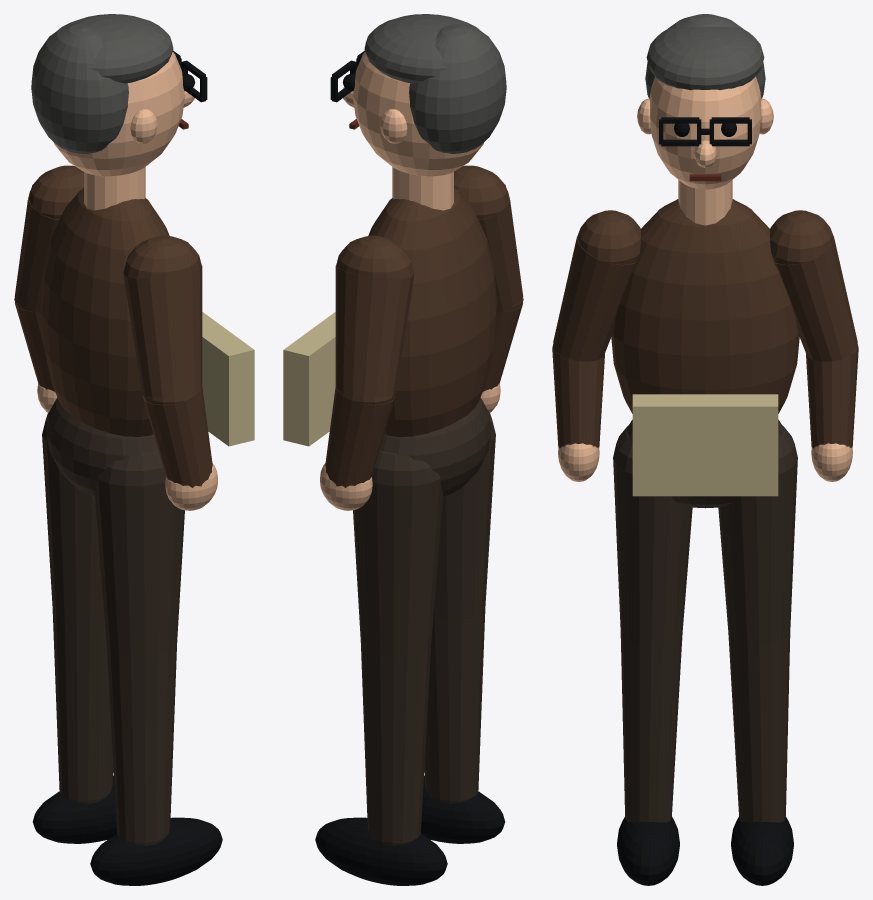
The model's file is person_14.dae.
3 views of the same model, side by side, from view 1: azimuth 30°, elevation 25°; view 2: azimuth 150°, elevation 25°; view 3: azimuth 270°, elevation 25° (orthographic).
Visible parts, largest first — view 1: part0node, part2node, part4node, part3node, part1node, part6node; view 2: part0node, part2node, part4node, part3node, part1node, part6node; view 3: part2node, part0node, part6node, part3node, part1node, part4node.
Boxes of the visible parts, x1,y1,x2,y2 form: part0node: (42, 397, 184, 845); part2node: (14, 165, 212, 487); part4node: (31, 14, 173, 153); part3node: (37, 52, 217, 510); part1node: (32, 50, 222, 885); part6node: (202, 312, 254, 446); part0node: (353, 397, 495, 845); part2node: (325, 165, 523, 487); part4node: (364, 14, 506, 153); part3node: (320, 52, 500, 510); part1node: (315, 50, 505, 885); part6node: (283, 312, 335, 446); part2node: (552, 199, 858, 447); part0node: (613, 419, 797, 822); part6node: (632, 394, 778, 496); part3node: (558, 76, 852, 481); part1node: (617, 117, 793, 885); part4node: (645, 14, 765, 98).
Bounding box in the file's own units: 0.033 × 0.05 × 0.15.
